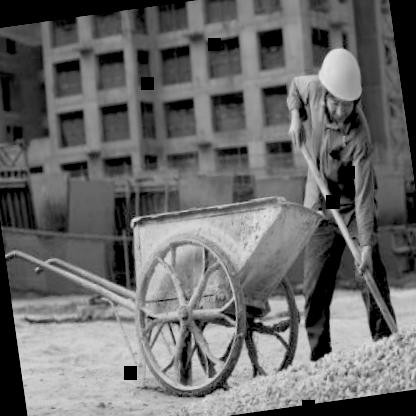helmet: (310, 34, 372, 130)
